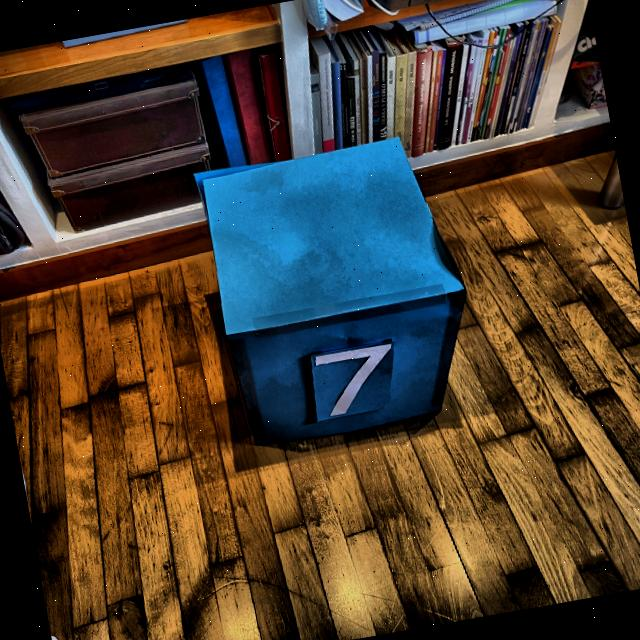blue box: (485, 413, 486, 414)
nine: (193, 120, 484, 457)
seven: (302, 326, 410, 429)
